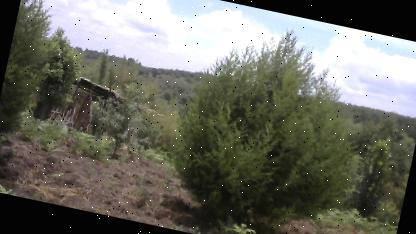tree: (149, 4, 393, 234)
